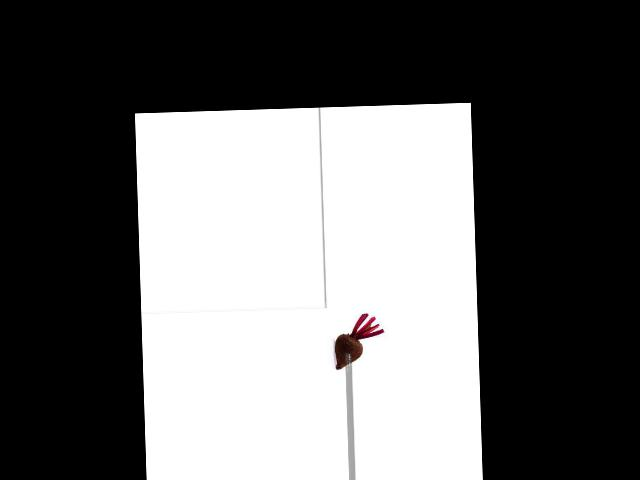beet: (333, 313, 385, 370)
